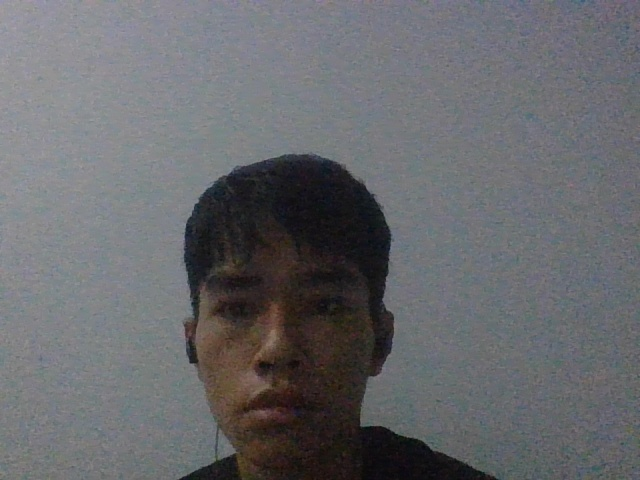real: (163, 128, 411, 479)
